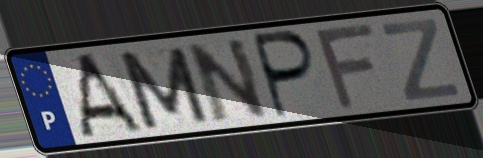A: (78, 50, 148, 139)
F: (312, 20, 380, 114)
M: (113, 43, 214, 132)
N: (182, 34, 273, 126)
P: (251, 27, 320, 122)
Z: (377, 15, 463, 104)
